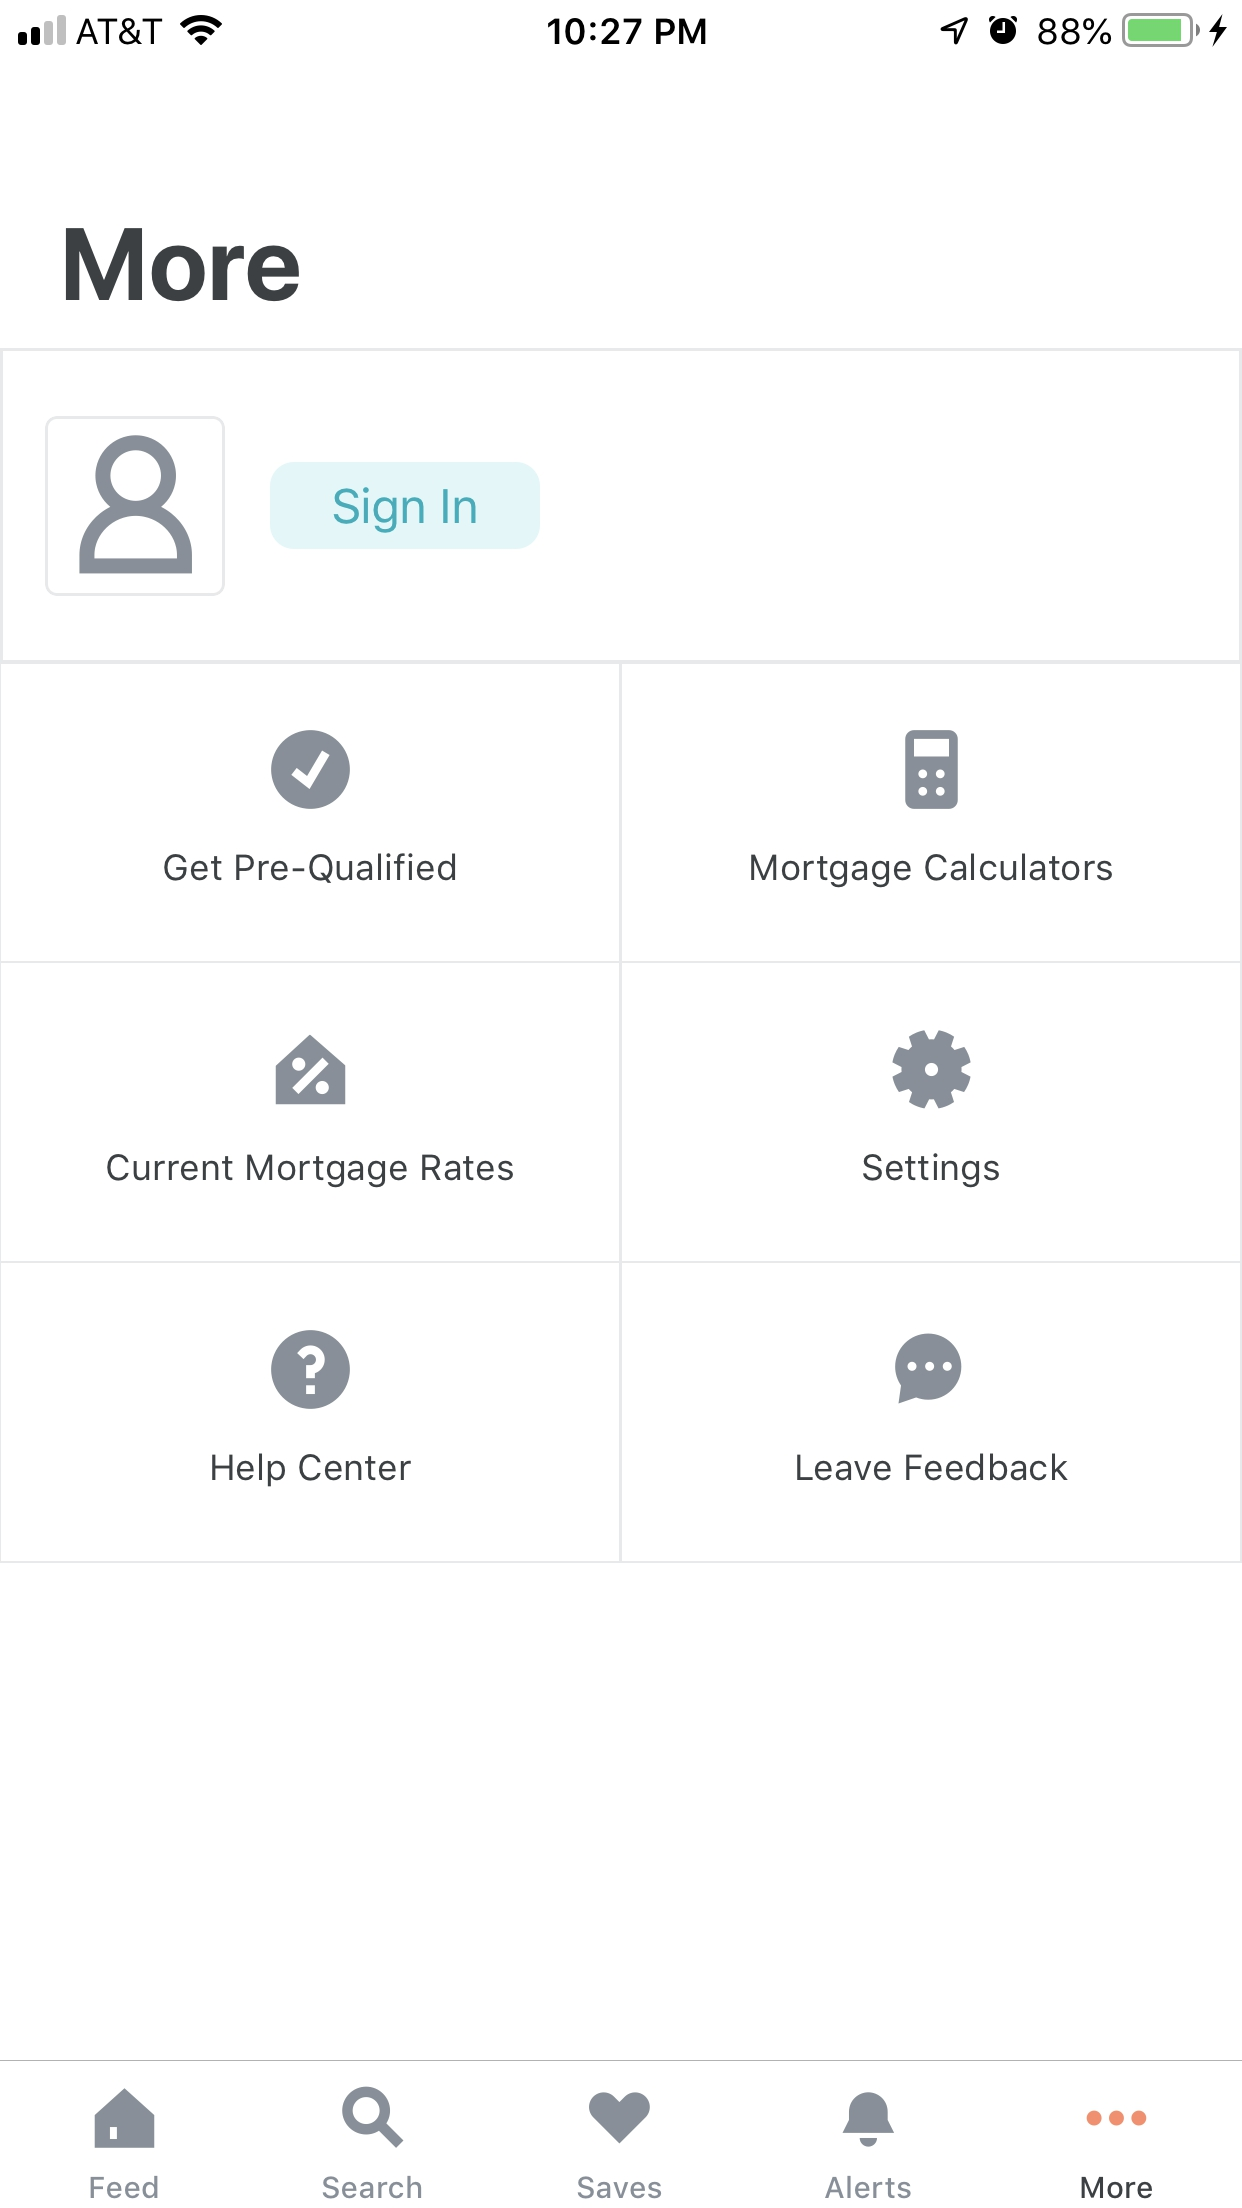Icon: (45, 416, 227, 597), (270, 1328, 350, 1410), (892, 1030, 972, 1110), (271, 729, 352, 810), (274, 1034, 347, 1106), (895, 1331, 963, 1404), (904, 729, 958, 810), (343, 2087, 405, 2149), (96, 2088, 156, 2149), (588, 2093, 651, 2144), (842, 2091, 895, 2147), (1086, 2109, 1148, 2128)
Text: (67, 227, 300, 303), (108, 1153, 516, 1189), (751, 852, 1113, 889), (164, 852, 456, 886), (796, 1451, 1069, 1482), (212, 1451, 412, 1488), (861, 1153, 999, 1189), (323, 2175, 423, 2199), (576, 2175, 663, 2200), (825, 2175, 911, 2199), (1080, 2176, 1154, 2200), (89, 2175, 159, 2199)
TextButton: (270, 463, 541, 550)
UpperTaskBar: (2, 2, 1242, 49)
